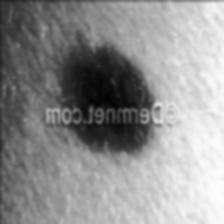Potentially Malignant Skin Tumors: (58, 57, 154, 102), (64, 130, 157, 152)
